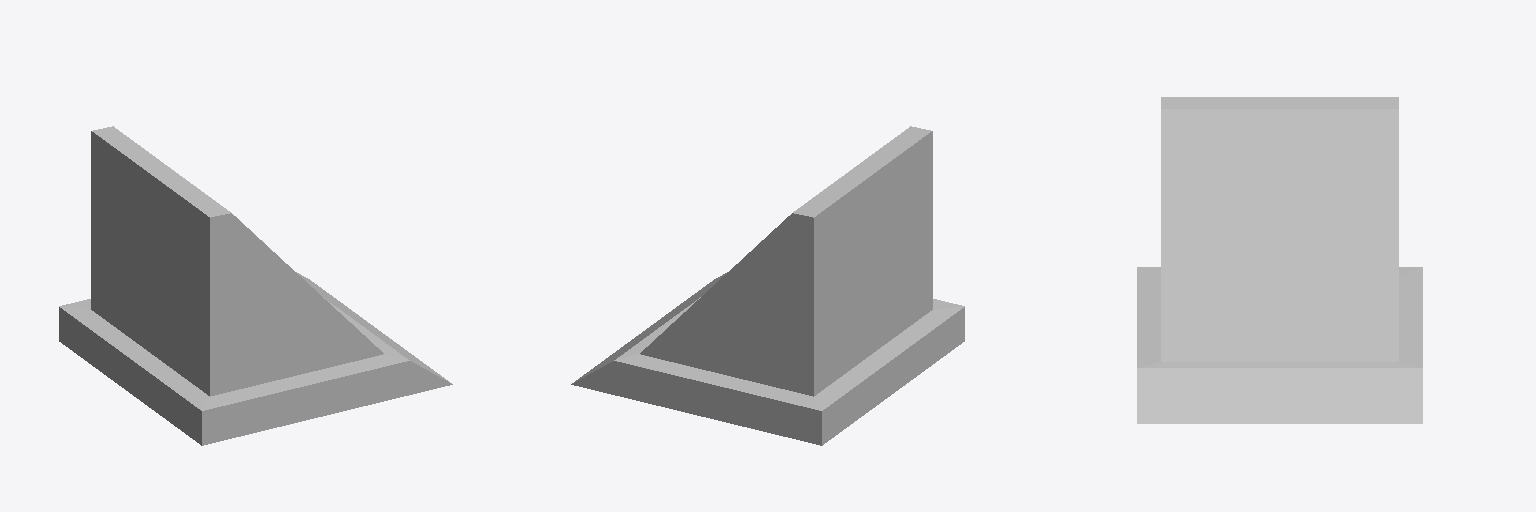
File: Platform9.obj
3 views of the same model, side by side, from view 1: azimuth 30°, elevation 25°; view 2: azimuth 150°, elevation 25°; view 3: azimuth 270°, elevation 25° (orthographic).
Parts seen in each view (by area): view 1: pCube4; view 2: pCube4; view 3: pCube4.
Boxes of the visible parts, x1=… form: pCube4: x1=59, y1=126, x2=452, y2=445; pCube4: x1=571, y1=126, x2=964, y2=445; pCube4: x1=1137, y1=97, x2=1422, y2=423.
Bounding box in the file's own units: 2.82 × 2.3 × 2.79.